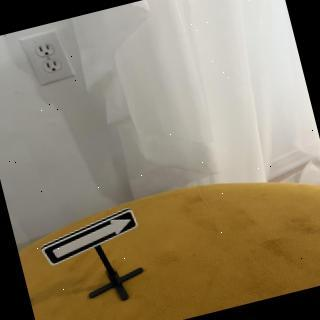sign_oneway_right: (36, 206, 145, 270)
